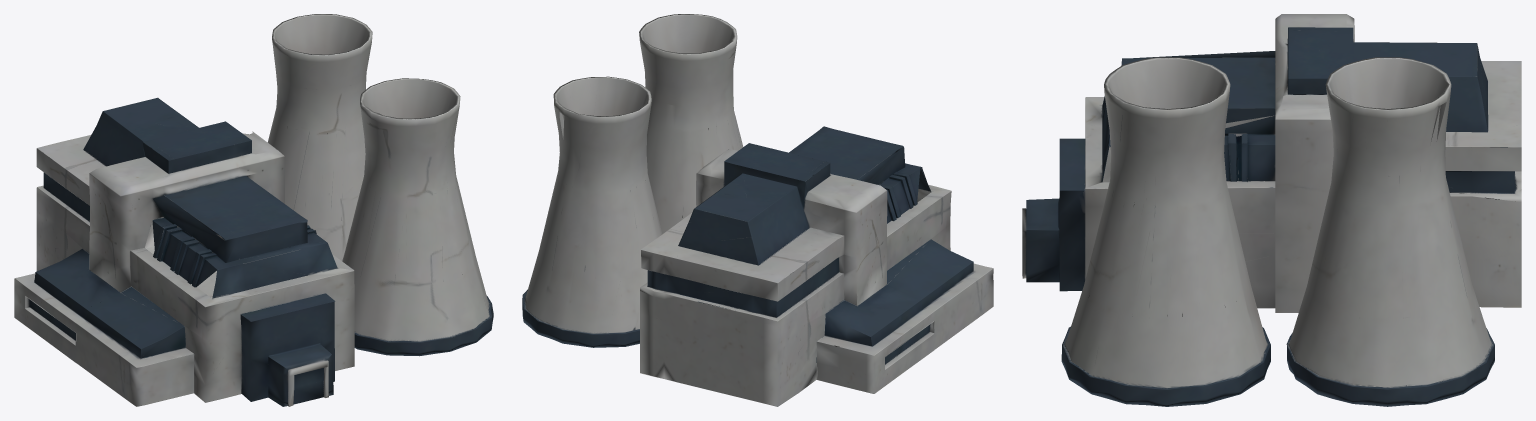
Rendered from 22-power-plant.glb.
3 renders of one model, left to right at view 1: azimuth 30°, elevation 25°; view 2: azimuth 150°, elevation 25°; view 3: azimuth 270°, elevation 25°, orthographic. The views are drawn at different scales.
Visible parts, largest first — view 1: geometry_0; view 2: geometry_0; view 3: geometry_0.
Boxes of the visible parts, x1,y1,x2,y2 form: geometry_0: [14, 14, 493, 406]; geometry_0: [522, 14, 993, 406]; geometry_0: [1022, 14, 1521, 406].
Size of the model in its own units: 0.9497 by 0.5522 by 0.894.
1 material, 1 textured.
